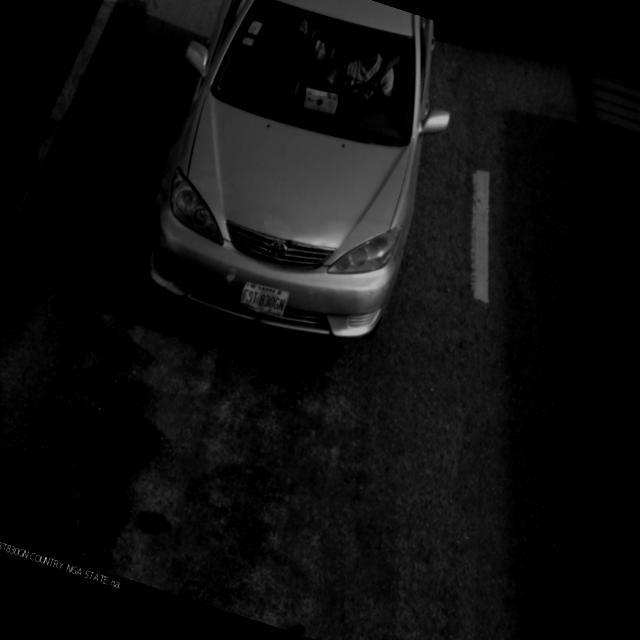windshield: (200, 0, 440, 157)
